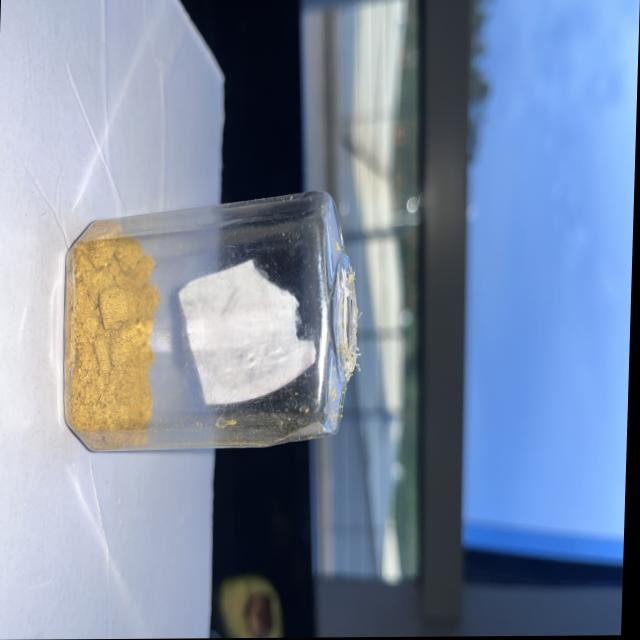curry_powder: (62, 217, 163, 450)
